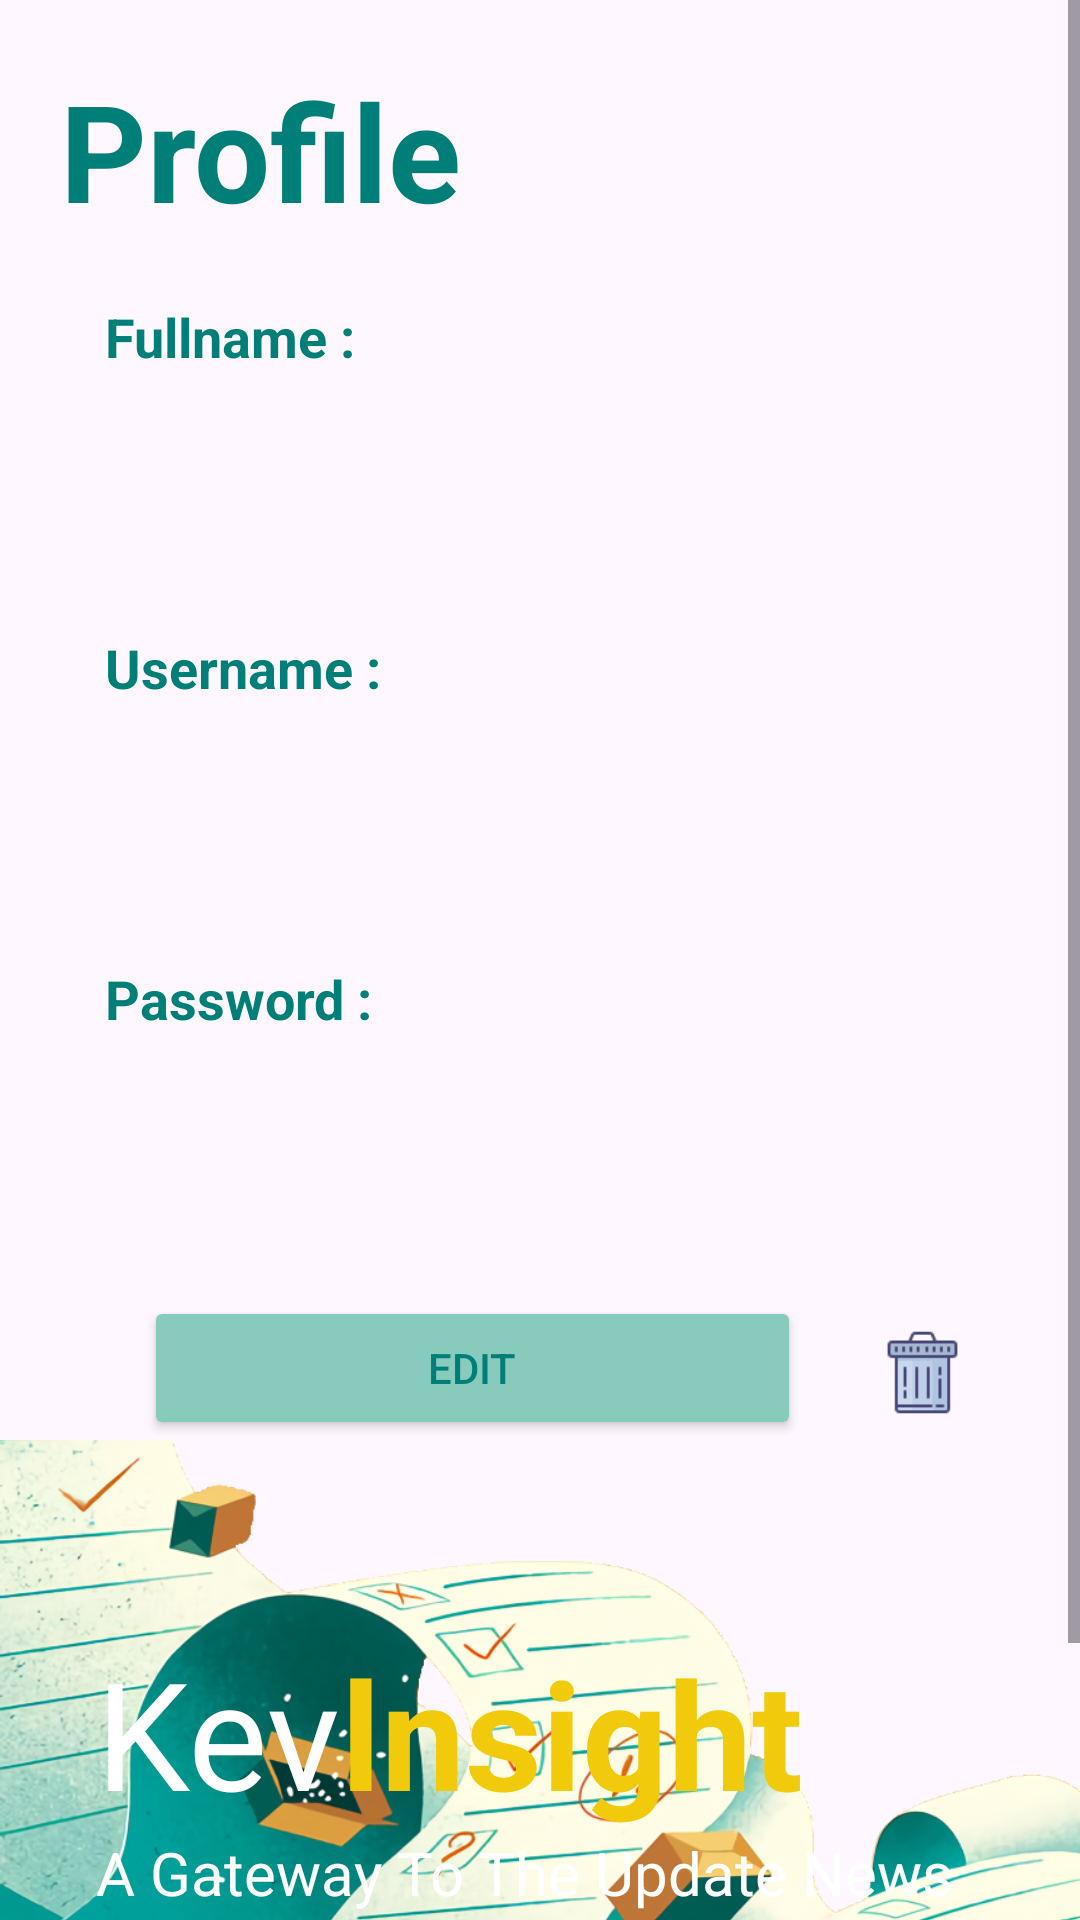

Where icons sit on this 1080w x 1920h app screen, as (x1, y1, x2, y2):
delete: (887, 1331, 958, 1414)
